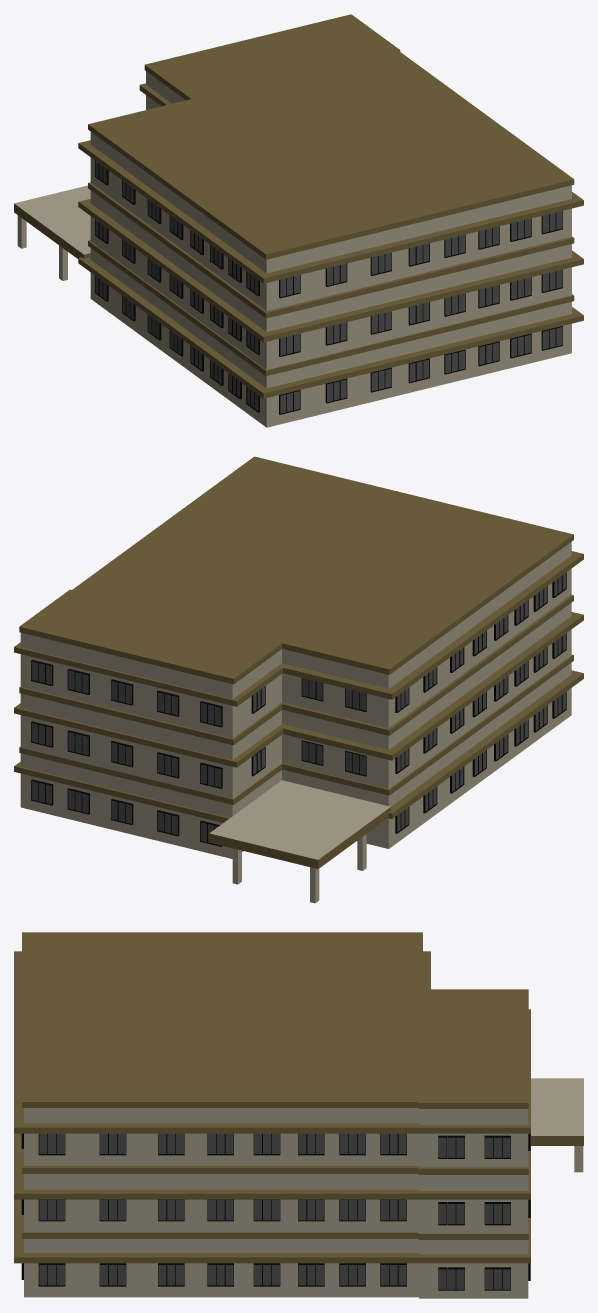
File: eee.fbx
The picture shows the model from 3 angles, top to bottom: view 1: azimuth 30°, elevation 25°; view 2: azimuth 150°, elevation 25°; view 3: azimuth 270°, elevation 25°; orthographic projection. The views are drawn at different scales.
Visible parts, largest first — view 1: polySurface60, polySurface38, polySurface137, polySurface236, polySurface332, polySurface136, polySurface37, polySurface331, polySurface159, polySurface258, pCube9, polySurface333; view 2: polySurface60, polySurface332, polySurface333, polySurface337, polySurface38, polySurface137, pCube9, polySurface338, polySurface236, polySurface37, polySurface136, polySurface331 (+7 smaller); view 3: polySurface60, polySurface137, polySurface38, polySurface236, polySurface332, polySurface37, polySurface136, polySurface331, polySurface338, polySurface337, polySurface333, pCube9 (+13 smaller).
Boxes of the visible parts, x1,y1,x2,y2 form: polySurface60: [88, 49, 574, 259]; polySurface38: [90, 132, 571, 310]; polySurface137: [90, 190, 571, 369]; polySurface236: [90, 248, 571, 427]; polySurface332: [144, 14, 400, 100]; polySurface136: [78, 199, 583, 342]; polySurface37: [78, 140, 583, 283]; polySurface331: [78, 257, 583, 398]; polySurface159: [88, 182, 574, 318]; polySurface258: [88, 240, 574, 376]; pCube9: [14, 185, 90, 258]; polySurface333: [146, 71, 185, 109]; polySurface60: [70, 456, 573, 674]; polySurface332: [19, 589, 282, 684]; polySurface333: [20, 632, 281, 738]; polySurface337: [20, 693, 281, 799]; polySurface38: [282, 542, 571, 728]; polySurface137: [282, 603, 571, 788]; pCube9: [209, 780, 390, 868]; polySurface338: [20, 753, 281, 858]; polySurface236: [282, 662, 571, 848]; polySurface37: [278, 551, 583, 699]; polySurface136: [283, 612, 583, 760]; polySurface331: [388, 670, 583, 818]; polySurface60: [22, 932, 422, 1107]; polySurface137: [24, 1174, 418, 1232]; polySurface38: [24, 1108, 418, 1165]; polySurface236: [24, 1239, 418, 1297]; polySurface332: [418, 989, 528, 1108]; polySurface37: [14, 951, 430, 1133]; polySurface136: [14, 1133, 430, 1199]; polySurface331: [14, 1199, 430, 1263]; polySurface338: [419, 1240, 528, 1298]; polySurface337: [419, 1175, 528, 1233]; polySurface333: [419, 1109, 528, 1167]; pCube9: [531, 1078, 583, 1145].
Size of the model in its own units: 3.15 by 1.64 by 4.31.
